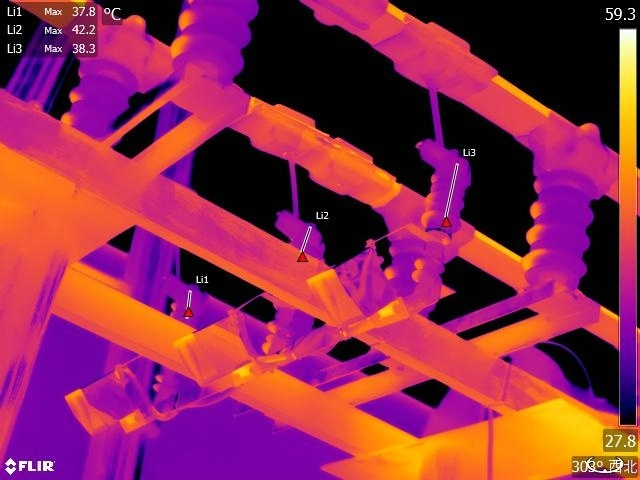lightning arrester: (260, 212, 327, 341), (411, 130, 470, 267), (147, 286, 202, 402)
post insulator: (511, 156, 610, 290), (39, 31, 154, 135), (171, 1, 277, 81)
